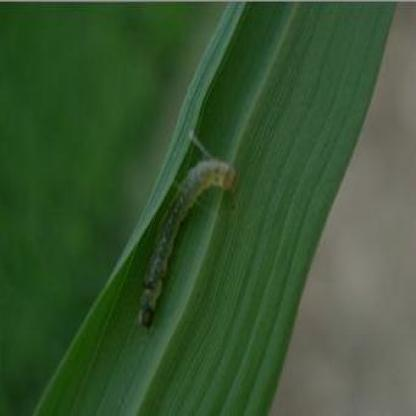leaf-folder: (130, 146, 238, 336)
